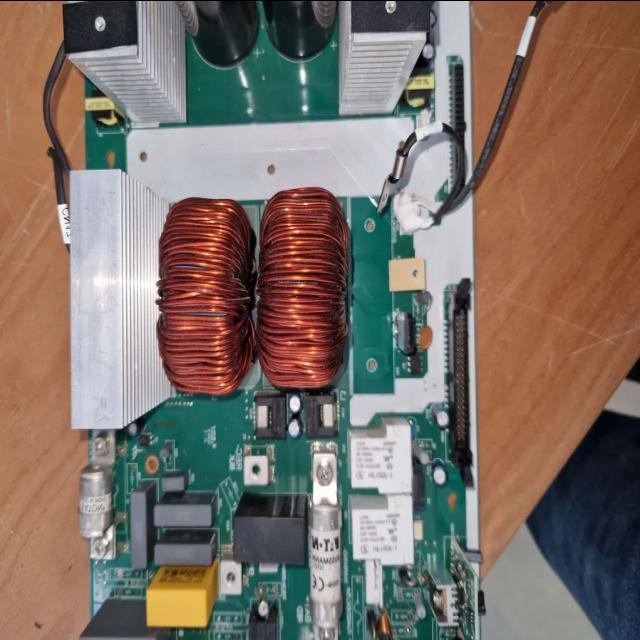A: (154, 194, 256, 394), (258, 187, 350, 389)
B: (312, 452, 342, 640), (78, 431, 116, 558)
